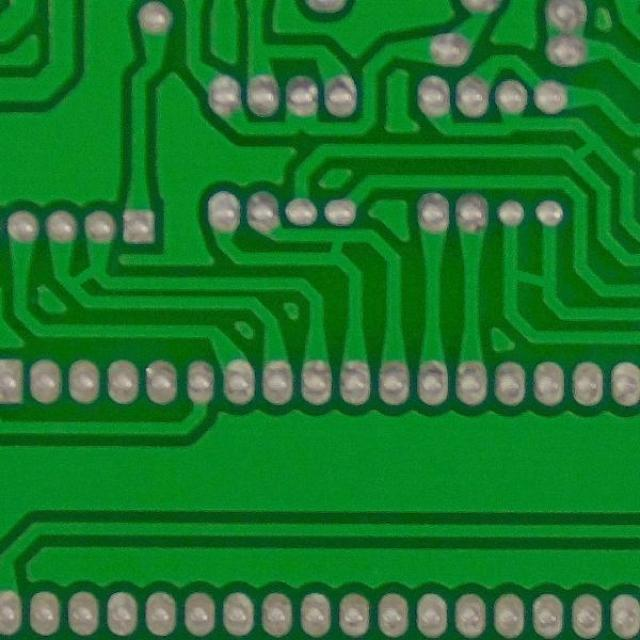short: (500, 256, 563, 308), (50, 254, 114, 303), (556, 131, 610, 173), (308, 227, 359, 271)
